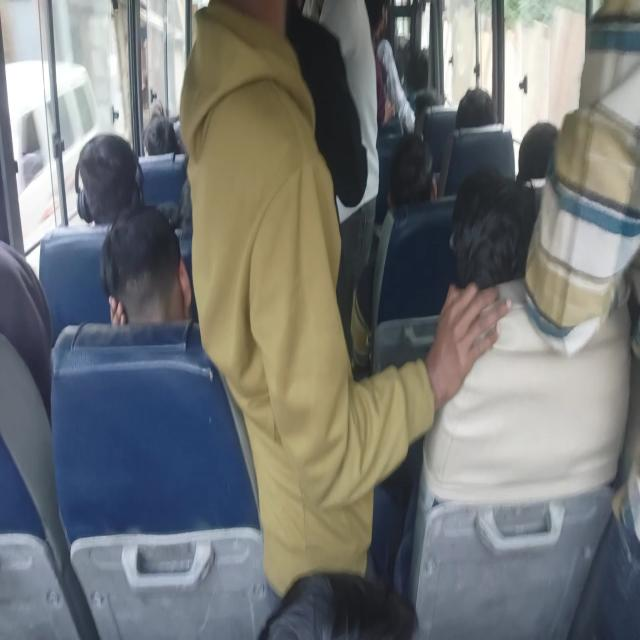person: (179, 3, 312, 194), (356, 134, 435, 368), (447, 169, 539, 293), (256, 570, 414, 638), (101, 206, 188, 328), (0, 238, 54, 427), (433, 88, 508, 201), (75, 132, 142, 229), (387, 132, 434, 209), (515, 120, 560, 190), (142, 105, 178, 157), (455, 86, 496, 128), (412, 90, 441, 138), (367, 0, 389, 44)
